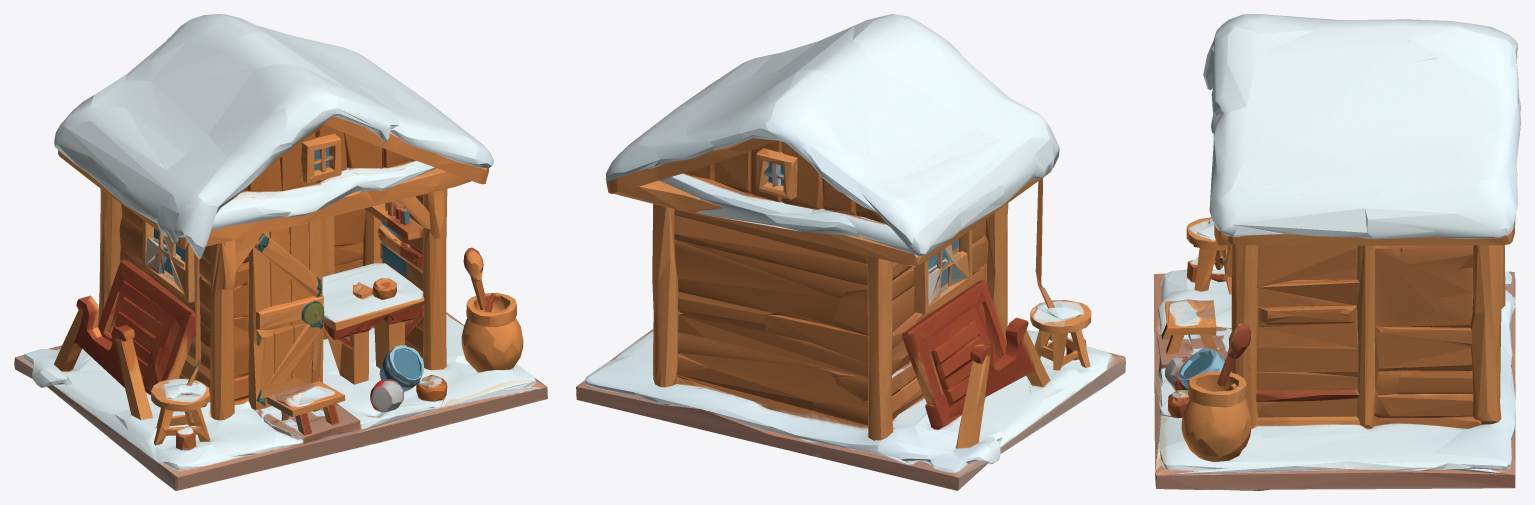
The model's file is carpenter.glb.
The picture shows the model from 3 angles, left to right: view 1: azimuth 30°, elevation 25°; view 2: azimuth 150°, elevation 25°; view 3: azimuth 270°, elevation 25°; orthographic projection. The views are drawn at different scales.
Size of the model in its own units: 1.9 by 1.59 by 1.43.
Materials: 1 (1 with a texture image).
